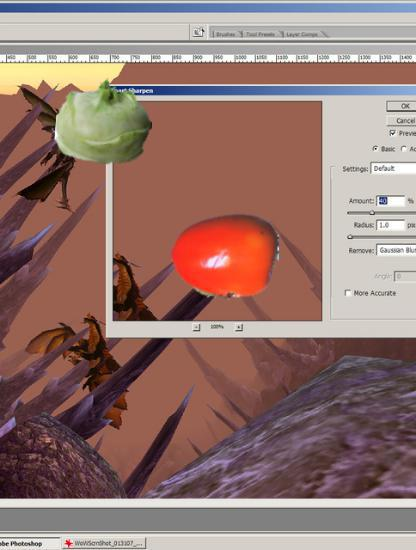Beetroot: (162, 215, 259, 312)
Kaki: (171, 202, 279, 310)
Kohlrabi: (56, 73, 152, 169)
